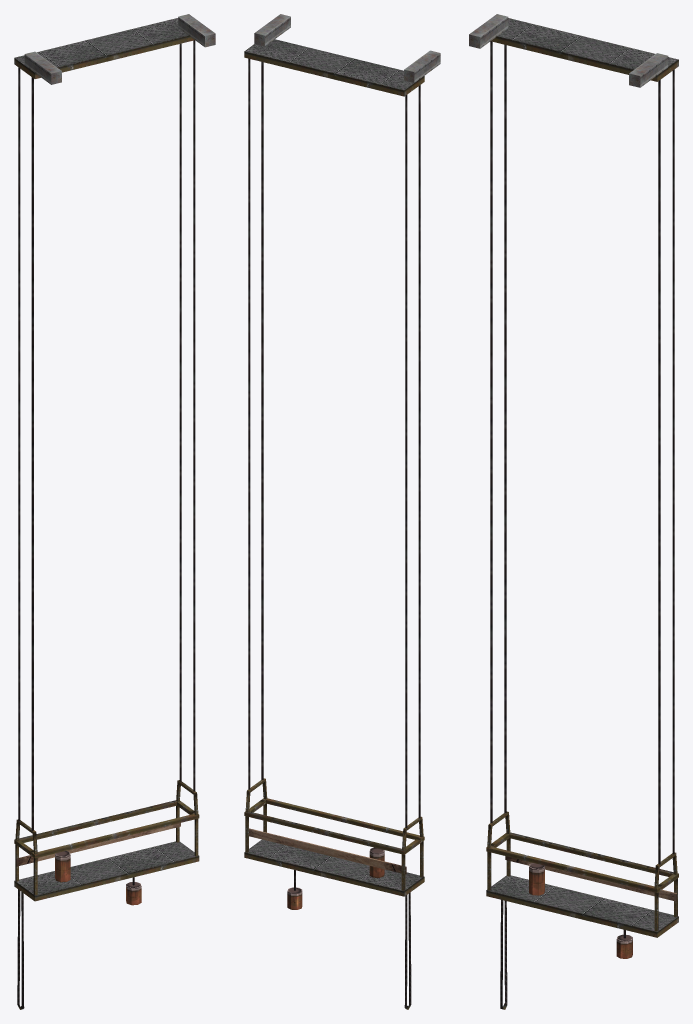
The model's file is shadow_model.fbx.
3 views of the same model, side by side, from view 1: azimuth 30°, elevation 25°; view 2: azimuth 150°, elevation 25°; view 3: azimuth 330°, elevation 25° (orthographic). The views are drawn at different scales.
Visible parts, largest first — view 1: mesh_0; view 2: mesh_0; view 3: mesh_0.
Part boxes in pixels (x1=…): mesh_0: x1=14, y1=14, x2=215, y2=1009; mesh_0: x1=244, y1=14, x2=440, y2=1009; mesh_0: x1=469, y1=14, x2=678, y2=1009.
Size of the model in its own units: 460 by 2566 by 182.
1 material, 1 textured.
